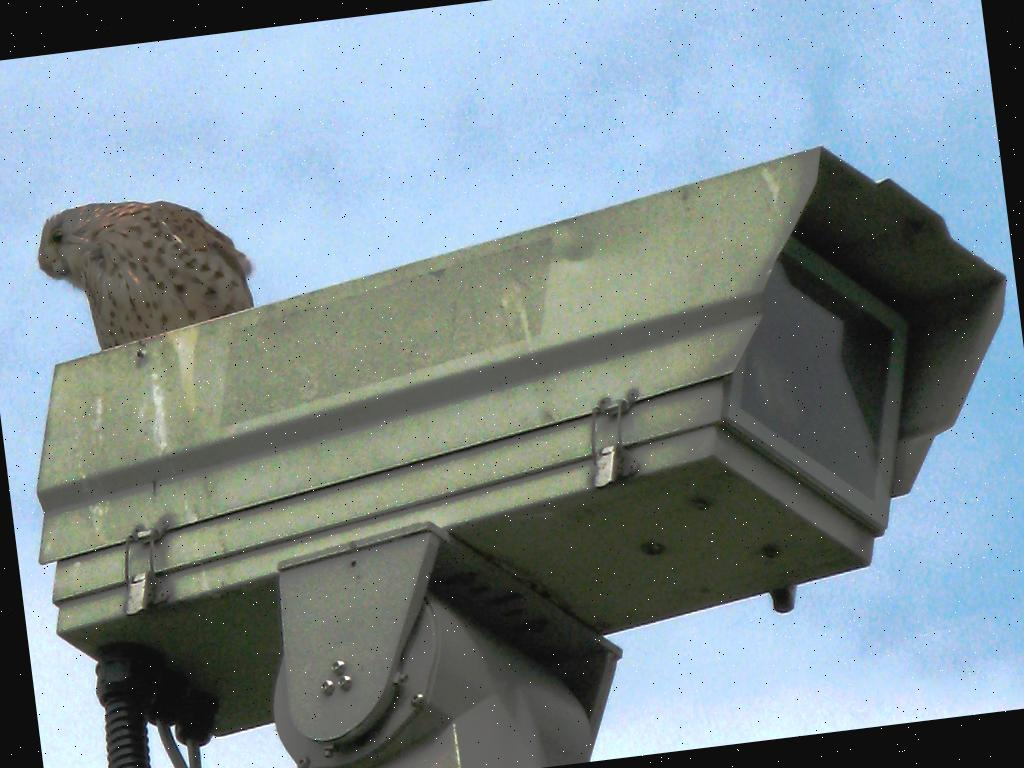Owl: (27, 184, 259, 357)
